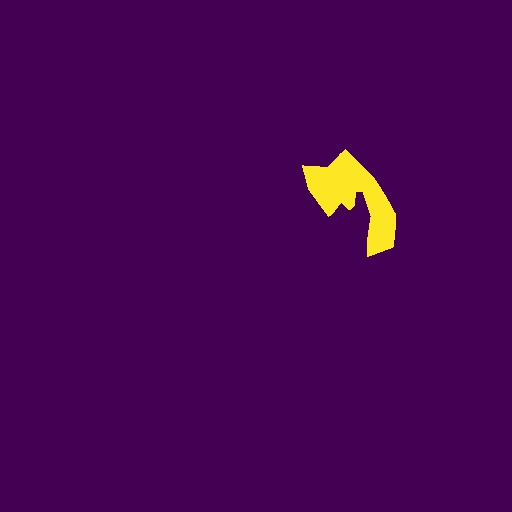Gliomia_tumour: (302, 149, 396, 257)
